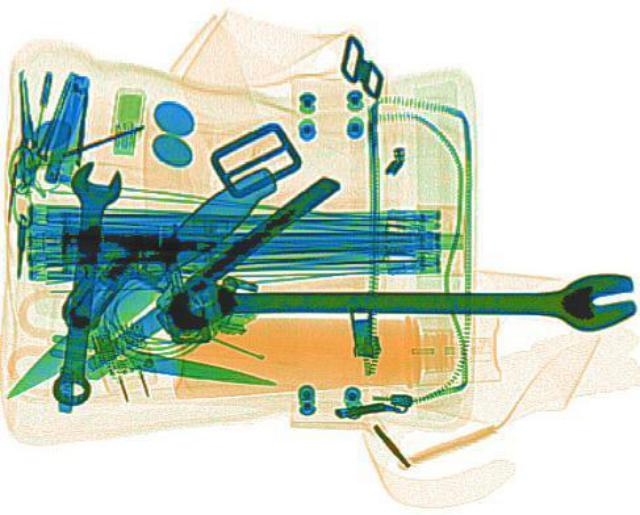Gun: (57, 227, 259, 334)
Knife: (0, 157, 287, 397), (63, 171, 341, 378), (41, 329, 276, 394)
Wrench: (166, 269, 634, 332), (41, 157, 122, 404)
